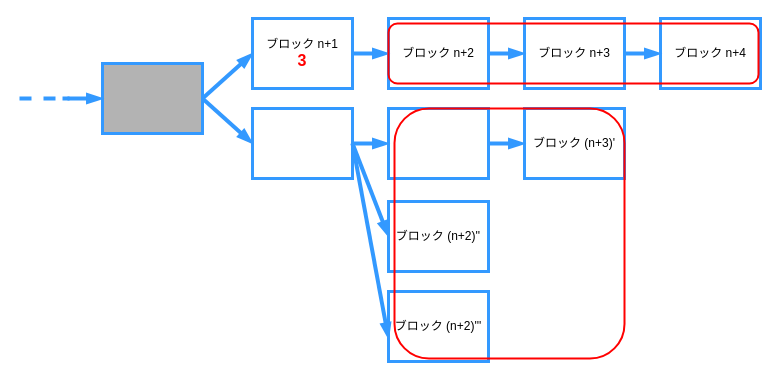
This 779x380 diagram has some shape labels left out. Here are the shapes that lost their labels. From the top down, the centre of each, then its label:
the point at 152,98: ブロック n
the point at 302,143: ブロック (n+1)' 4
the point at 438,143: ブロック (n+2)'
